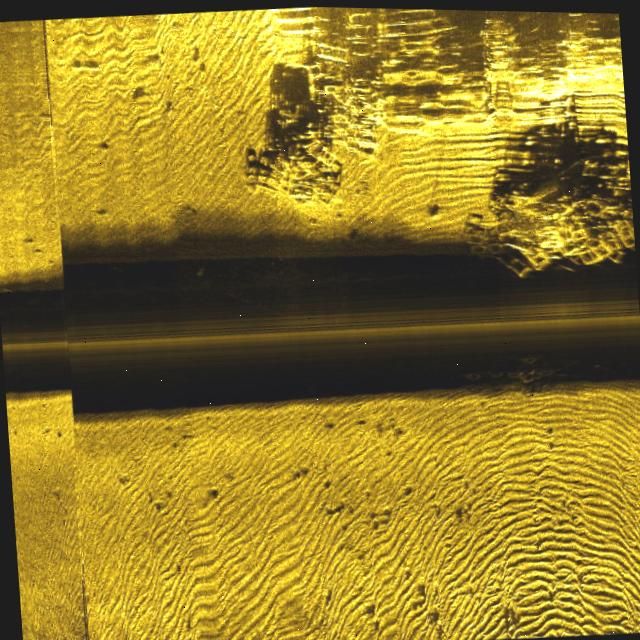artificial reef: (456, 143, 636, 278), (242, 78, 390, 215), (460, 341, 564, 382)
